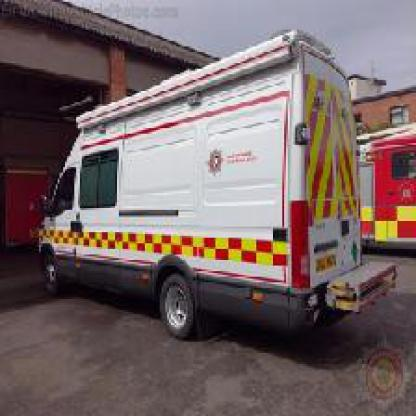emergency: (24, 65, 383, 349)
